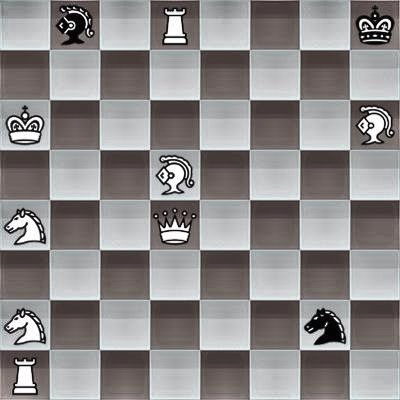black-bishop: (50, 0, 100, 50)
black-king: (350, 0, 400, 50)
black-knight: (300, 300, 350, 350)
white-bishop: (350, 100, 400, 150), (150, 150, 200, 200)
white-king: (0, 100, 50, 150)
white-knight: (0, 200, 50, 250), (0, 300, 50, 350)
white-queen: (150, 200, 200, 250)
white-rook: (150, 0, 200, 50), (0, 350, 50, 400)
